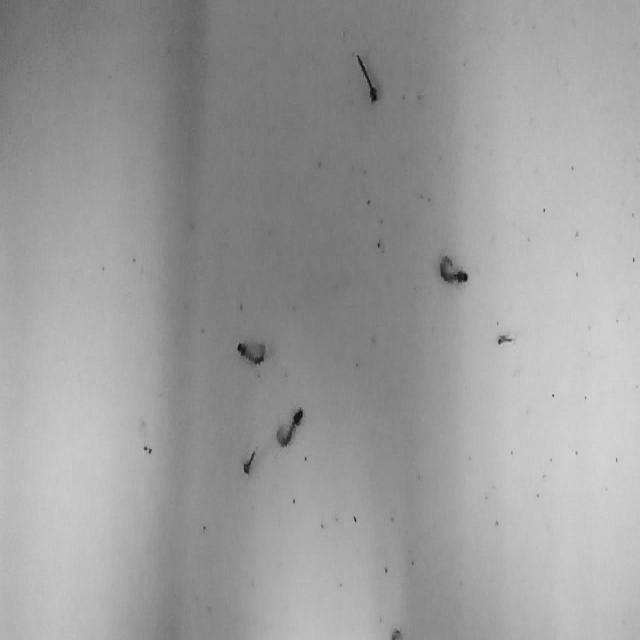larvas: (354, 52, 378, 104), (276, 408, 302, 448), (439, 254, 469, 284), (235, 340, 265, 364), (242, 449, 254, 475), (497, 334, 513, 343)
